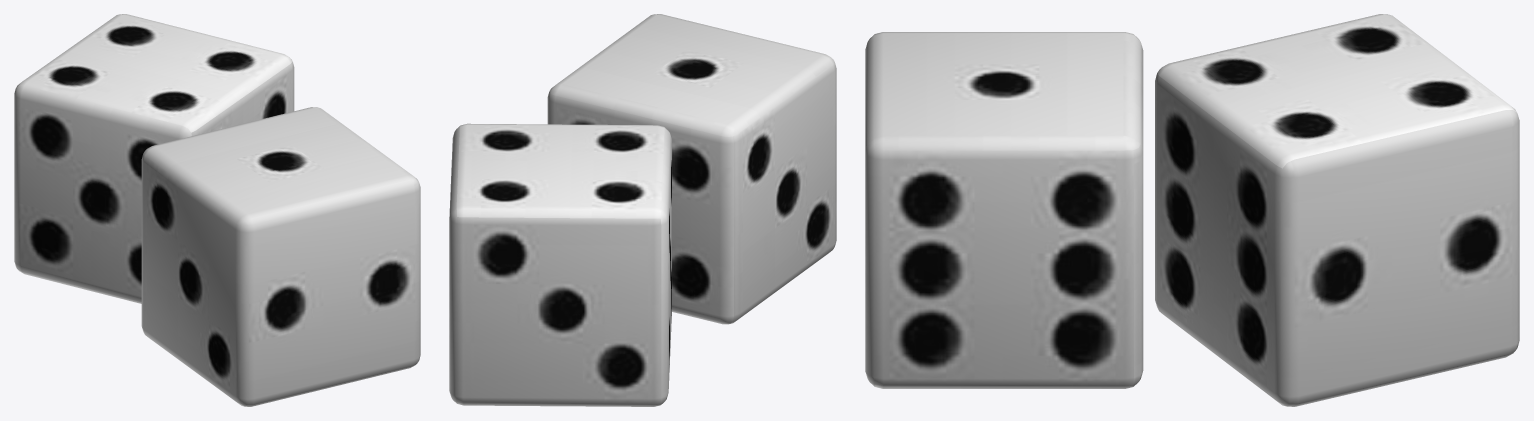
The model's file is dice.fbx.
The picture shows the model from 3 angles, left to right: view 1: azimuth 30°, elevation 25°; view 2: azimuth 150°, elevation 25°; view 3: azimuth 270°, elevation 25°; orthographic projection. The views are drawn at different scales.
Visible parts, largest first — view 1: Dice_Mesh; view 2: Dice_Mesh; view 3: Dice_Mesh.
Part boxes in pixels (bbox=[...]): Dice_Mesh: bbox=[14, 14, 420, 406]; Dice_Mesh: bbox=[449, 14, 836, 406]; Dice_Mesh: bbox=[865, 14, 1519, 406].
Bounding box in the file's own units: 5.11 × 3.89 × 9.17.
